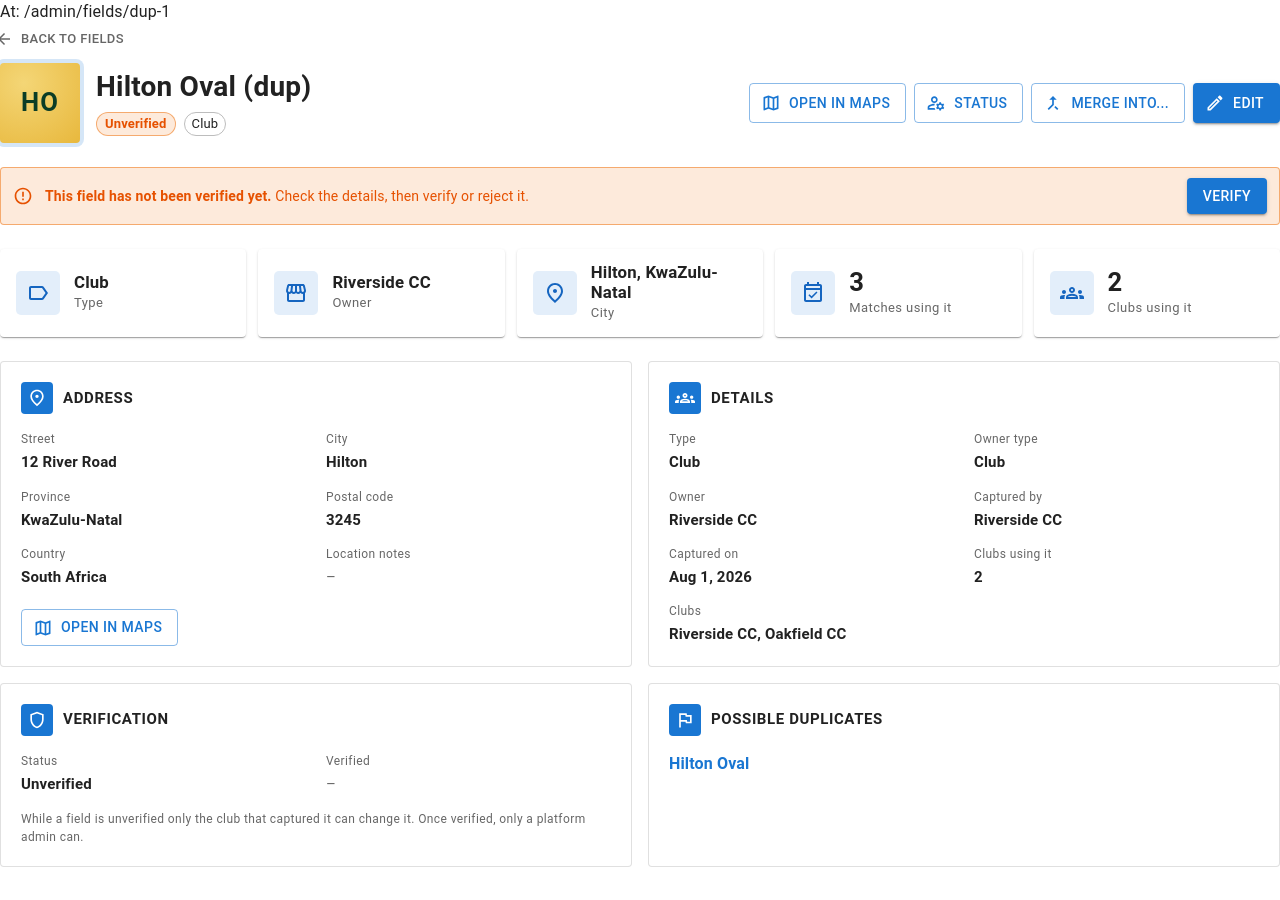
Scenario: AdminFieldDetailPage › Merge into... › Cancel on the confirmation merges nothing
Expected: the heading "Hilton Oval (dup)" is shown, x1=96 y1=70 x2=311 y2=104
Click the button "Merge into..." at (1108, 103), box x1=1031 y1=83 x2=1185 y2=123
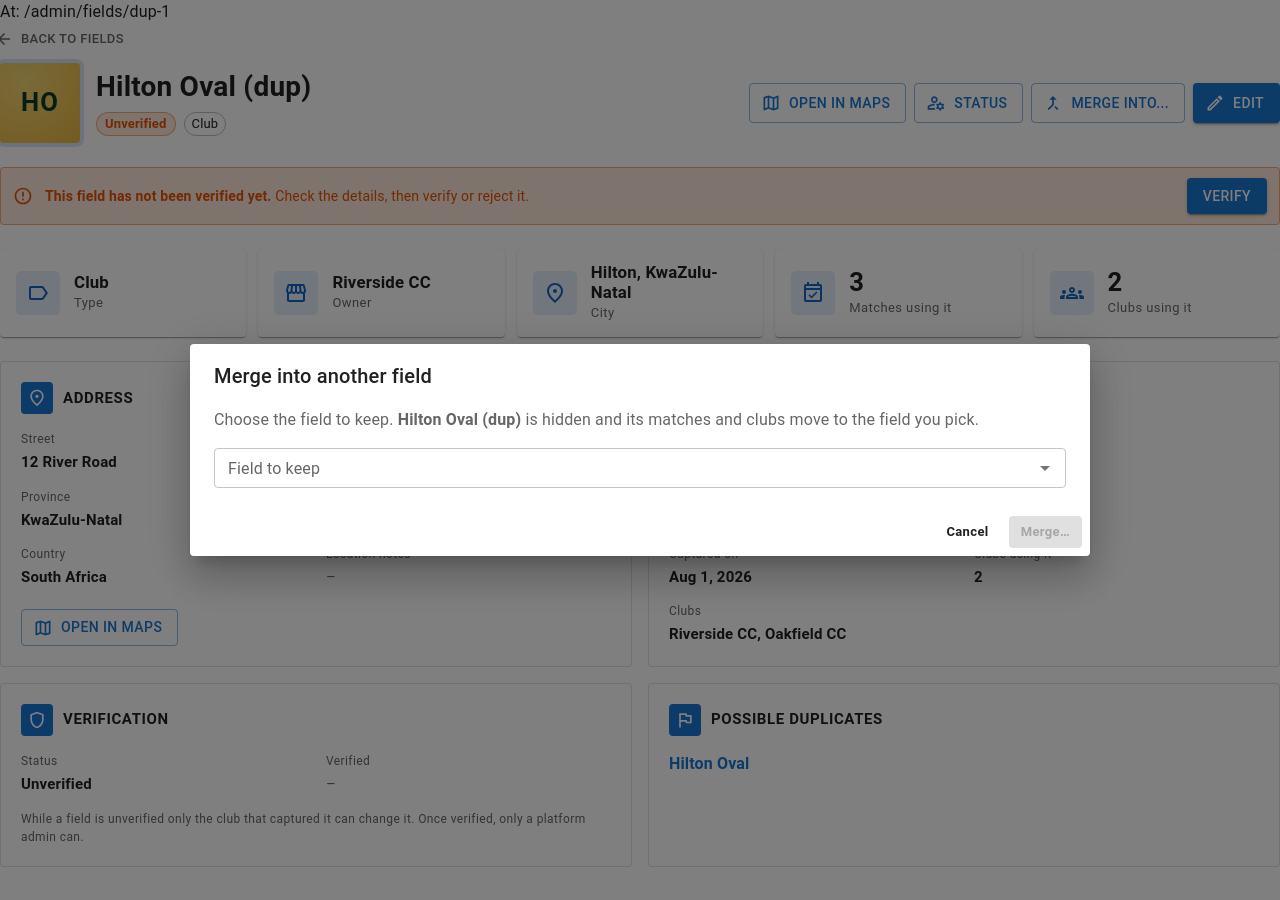
Click the dropdown labelled "Field to keep" at (624, 468), box x1=220 y1=454 x2=1027 y2=482
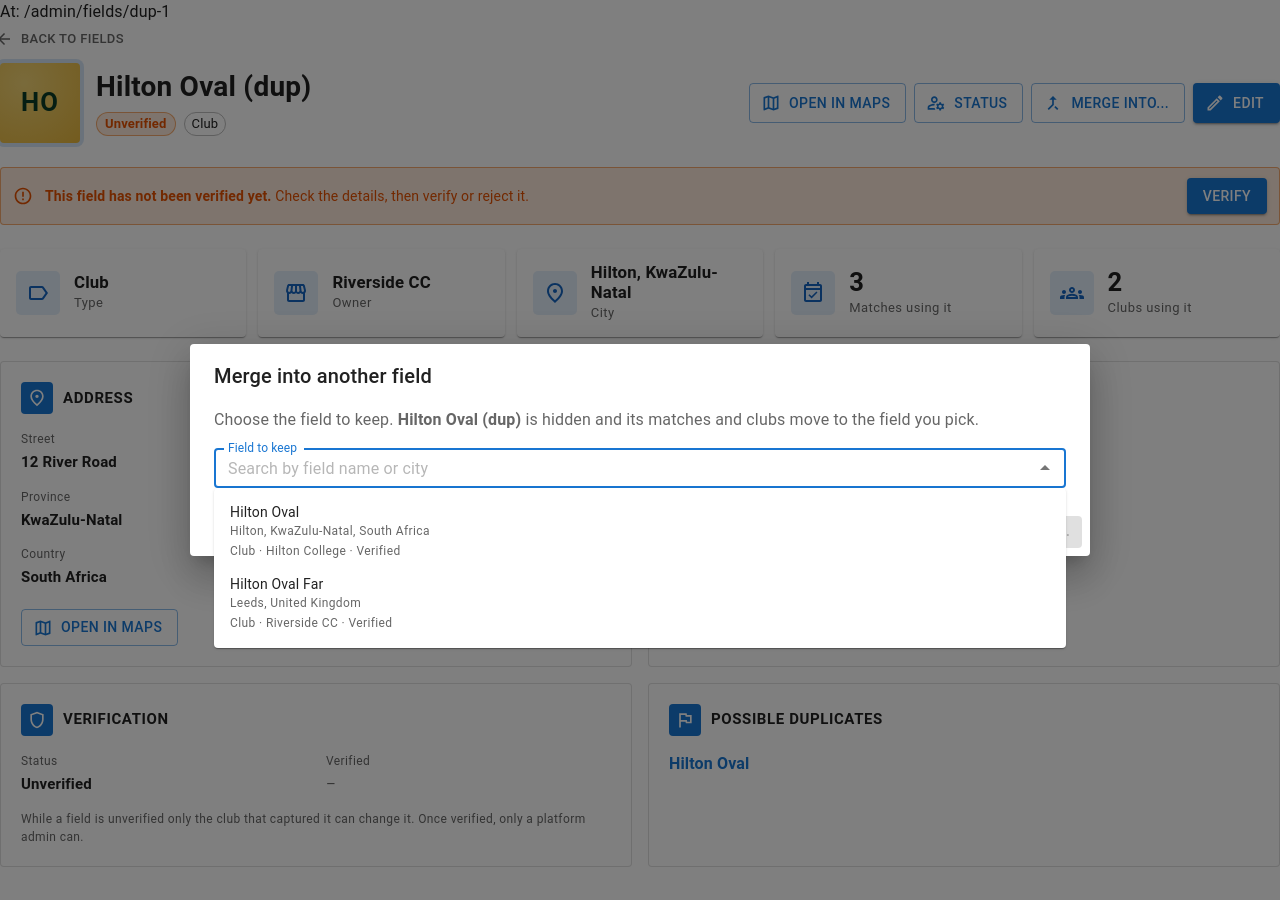
Click the 1st option at (330, 531), box x1=230 y1=504 x2=430 y2=558
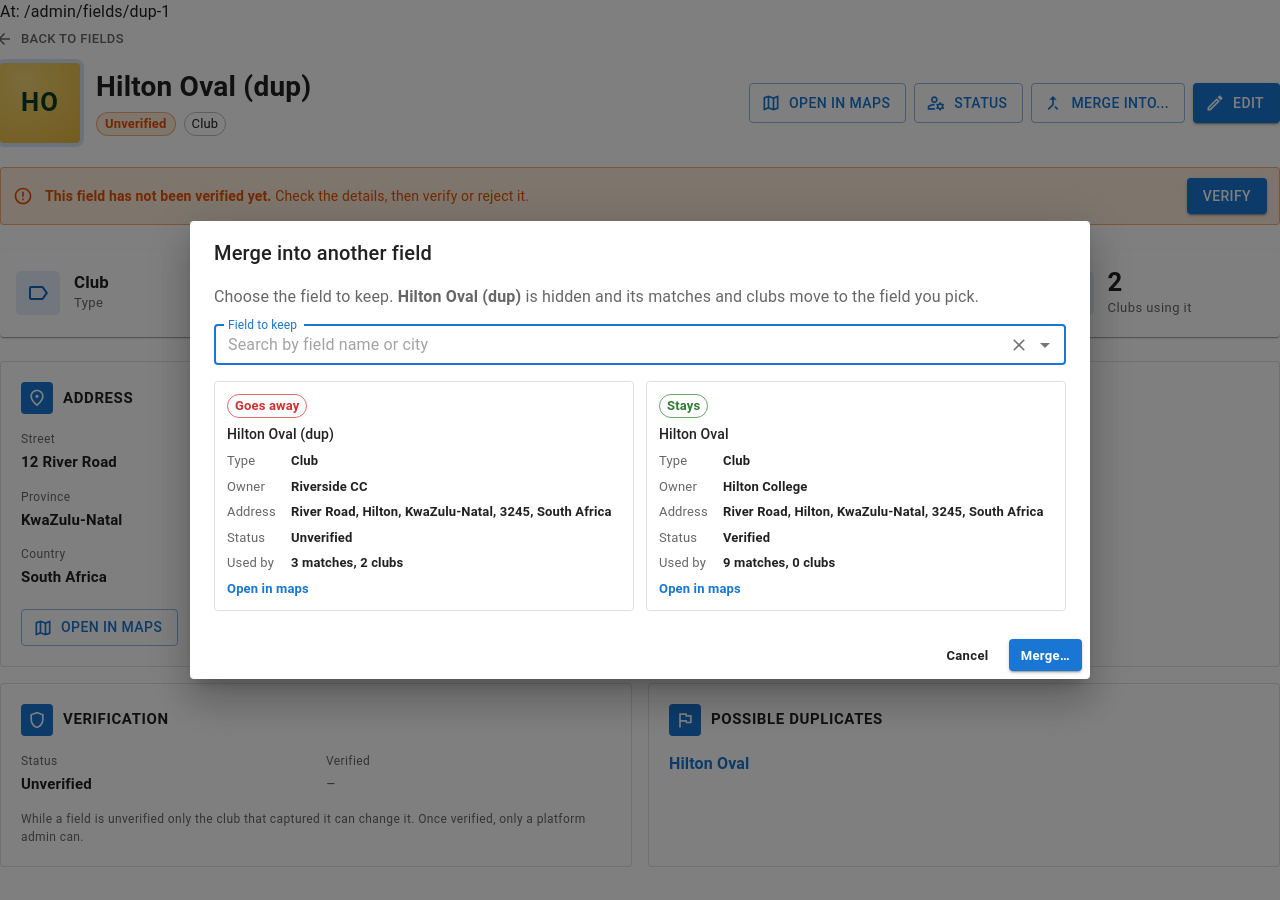
Click the button "Merge…" at (1045, 656), box x1=1009 y1=640 x2=1082 y2=672
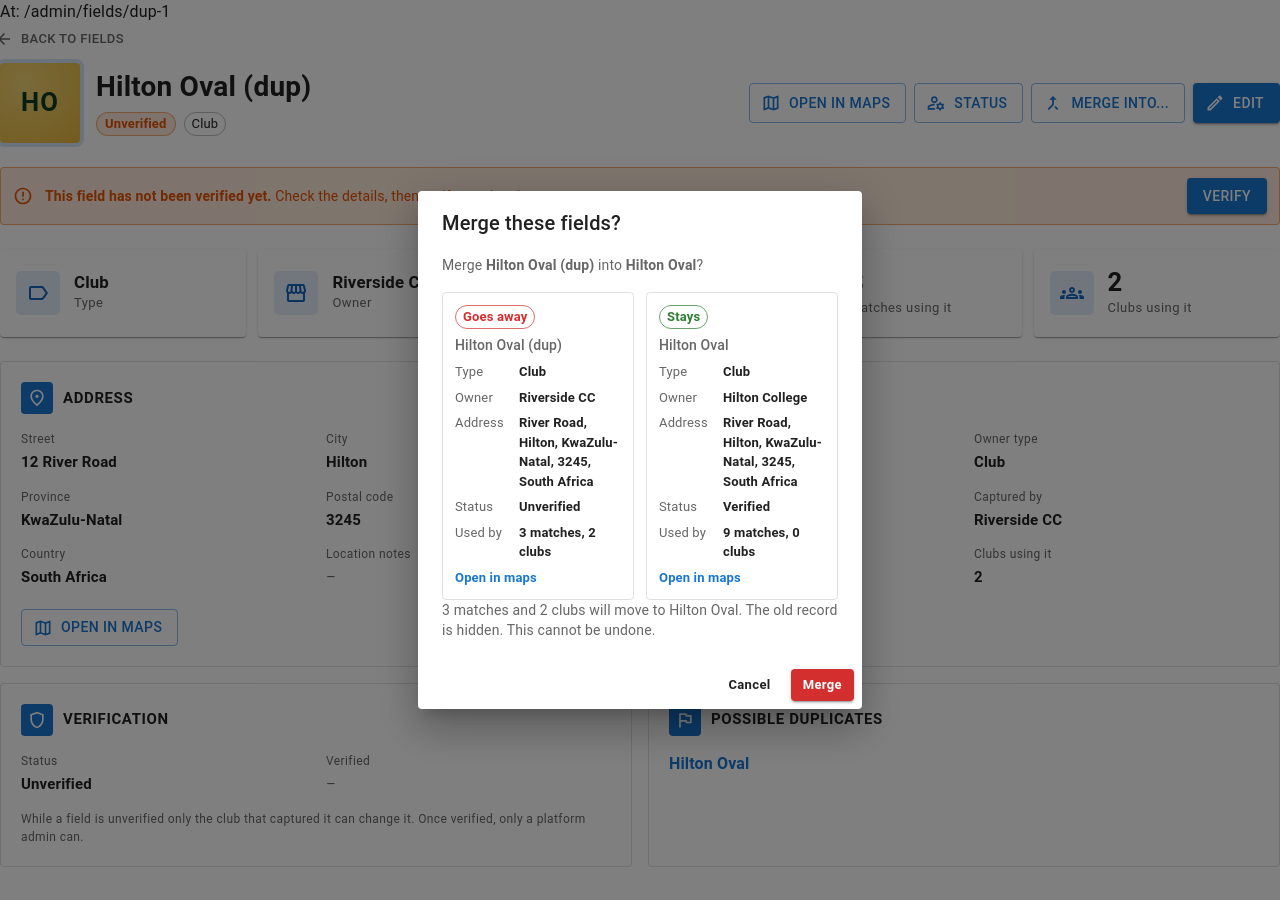
Click the button "Cancel" at (750, 684), box x1=716 y1=668 x2=783 y2=700
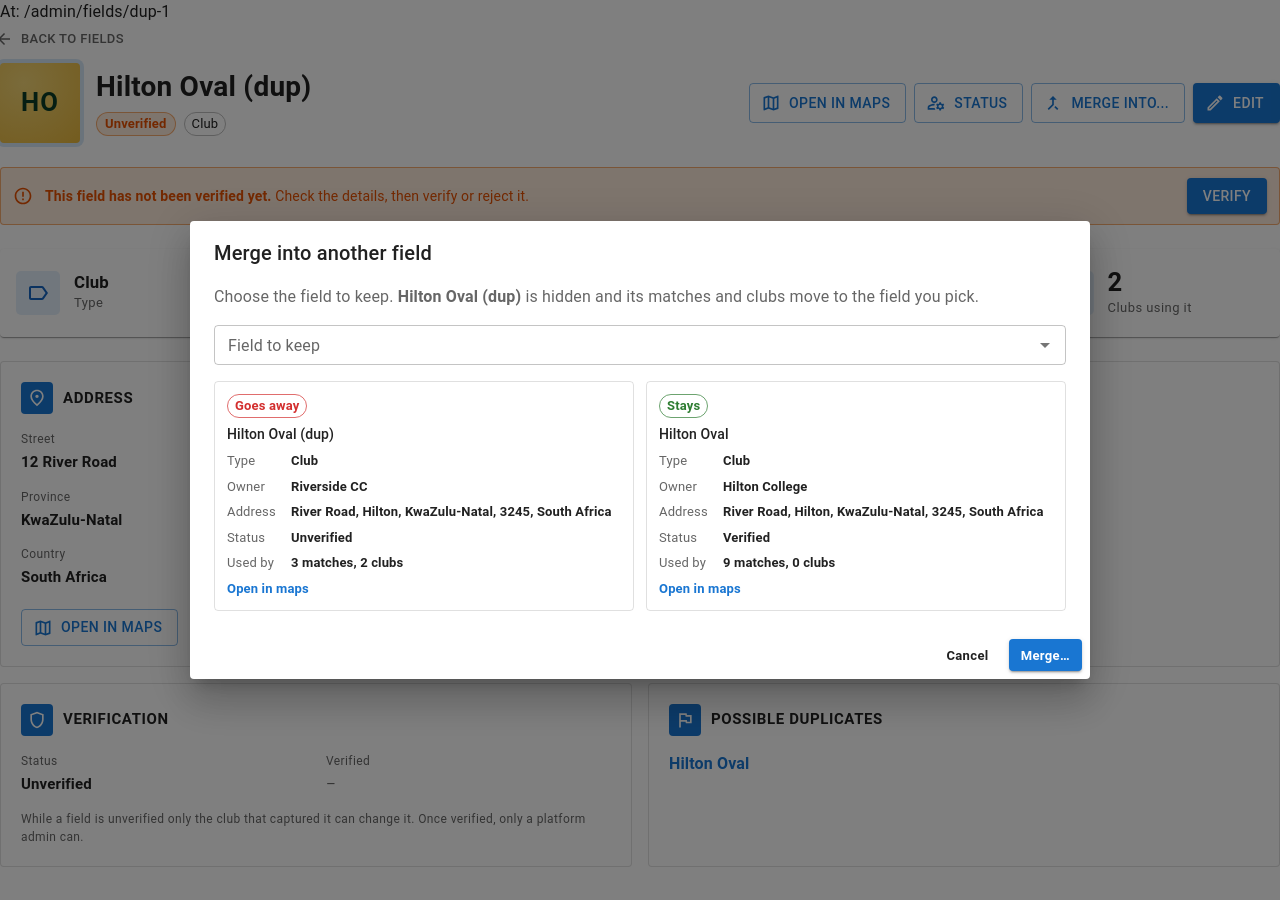
Now the heading "Merge these fields?" is gone
